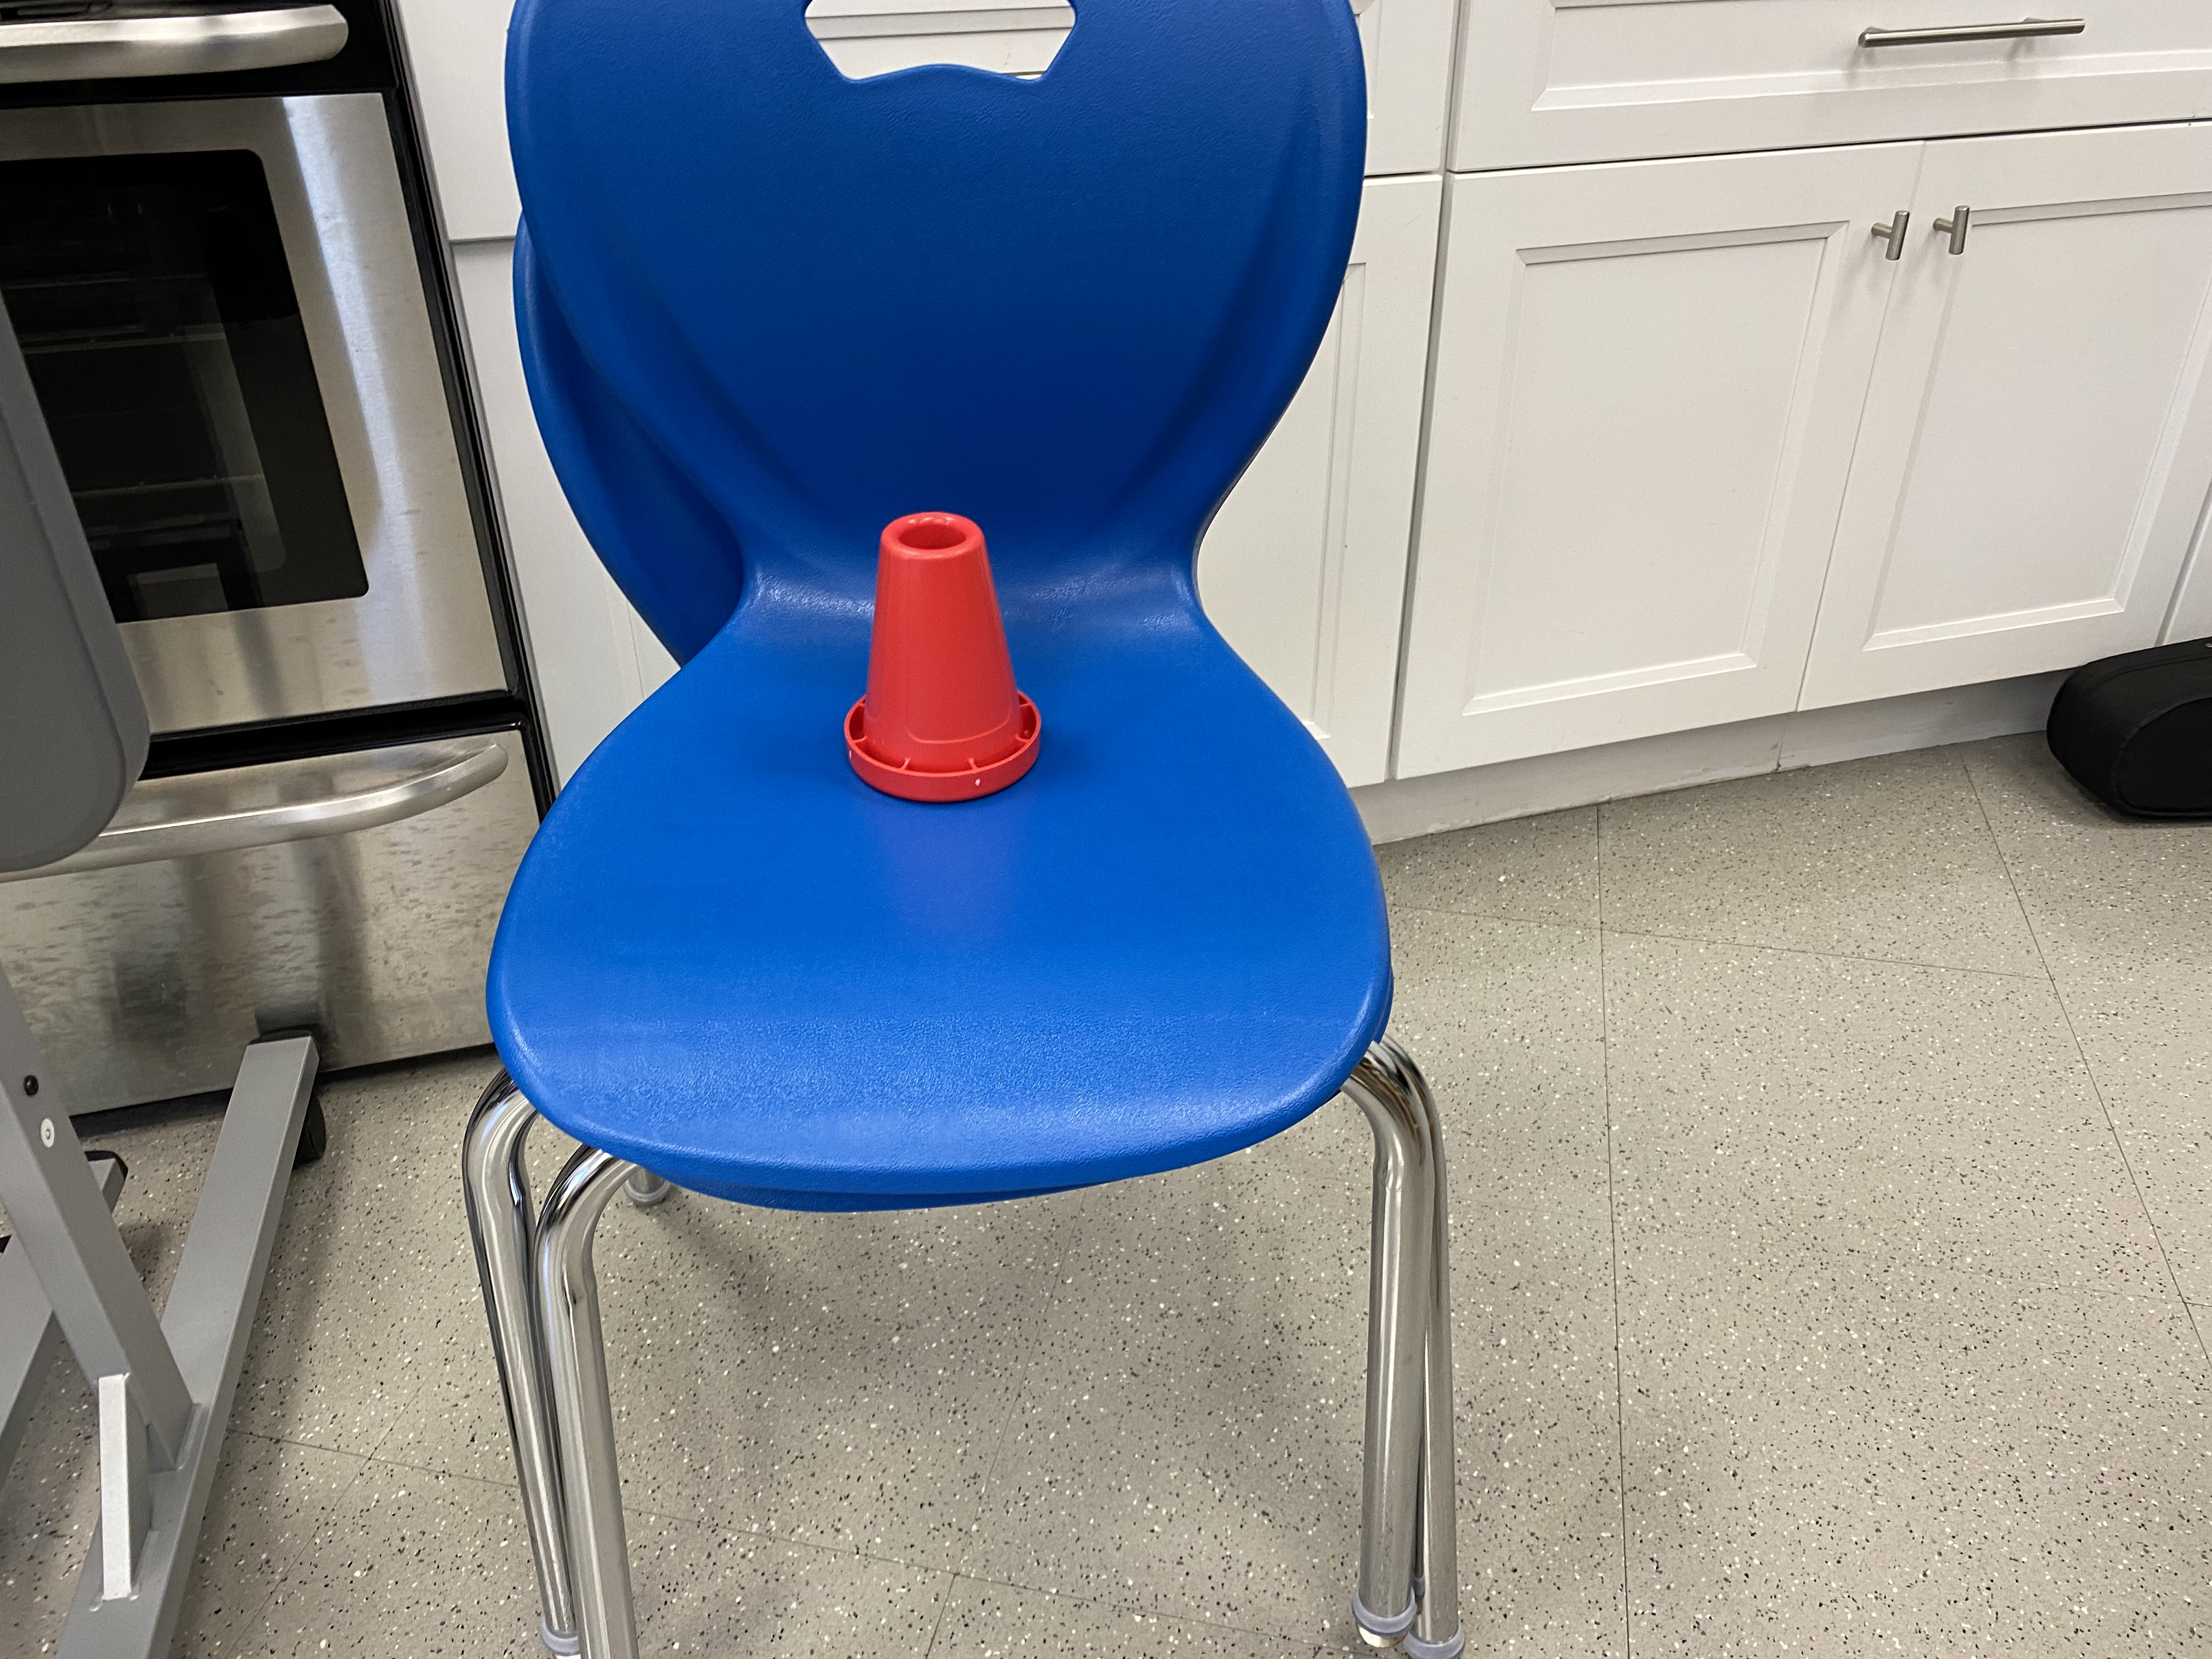redCone: (840, 502, 1052, 814)
